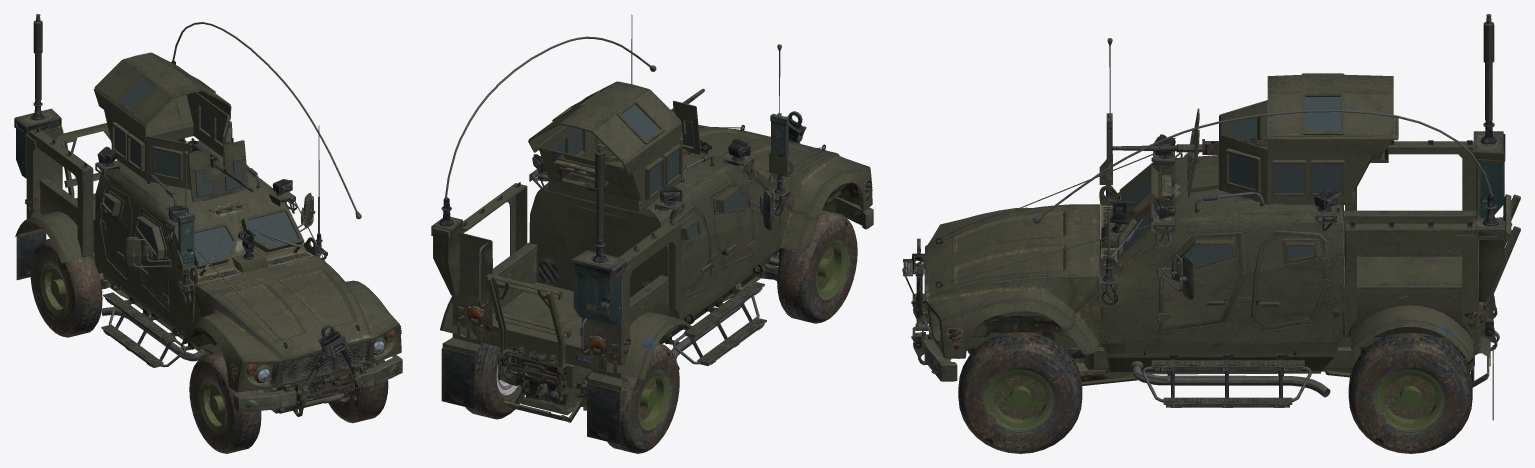
The model's file is matv_armored.glb.
3 renders of one model, left to right at view 1: azimuth 30°, elevation 25°; view 2: azimuth 150°, elevation 25°; view 3: azimuth 270°, elevation 25°, orthographic. The views are drawn at different scales.
Parts seen in each view (by area): view 1: Body, MG_Shield, Rim_FR, Rim_RR, Window_Turret, tire_RR, Window_Front, Passenger_Door, Rear_Door_R, tire_FR, tire_FL, Rim_FL; view 2: Body, MG_Shield, Rim_FR, Rim_RR, Passenger_Door, tire_FR, Rear_Door_R, Window_Turret, tire_RL, tire_RR, Rim_RL; view 3: Body, MG_Shield, Rim_FL, Rim_RL, Rear_Door_L, Driver_Door, Window_Turret, tire_FL, tire_RL, Window_Front.
Part boxes in pixels (x1,y1,x2,y2): Body: (14, 14, 402, 416); MG_Shield: (93, 52, 248, 202); Rim_FR: (189, 361, 234, 449); Rim_RR: (30, 245, 75, 333); Window_Turret: (114, 76, 242, 195); tire_RR: (32, 238, 102, 337); Window_Front: (194, 211, 298, 263); Passenger_Door: (134, 207, 171, 310); Rear_Door_R: (99, 185, 132, 278); tire_FR: (191, 352, 261, 453); tire_FL: (331, 359, 388, 423); Rim_FL: (328, 368, 358, 417); Body: (431, 14, 873, 444); MG_Shield: (528, 81, 700, 212); Rim_FR: (807, 220, 857, 319); Rim_RR: (629, 350, 679, 449); Passenger_Door: (709, 181, 755, 269); tire_FR: (777, 209, 855, 323); Rear_Door_R: (674, 205, 715, 300); Window_Turret: (555, 102, 693, 194); tire_RL: (465, 336, 520, 419); tire_RR: (607, 343, 677, 453); Rim_RL: (489, 346, 524, 413); Body: (902, 14, 1520, 420); MG_Shield: (1186, 73, 1398, 204); Rim_FL: (965, 350, 1075, 451); Rim_RL: (1355, 350, 1466, 451); Rear_Door_L: (1251, 230, 1330, 330); Driver_Door: (1157, 232, 1246, 331); Window_Turret: (1187, 97, 1341, 193); tire_FL: (958, 332, 1082, 453); tire_RL: (1348, 333, 1472, 453); Window_Front: (1123, 177, 1148, 251).
Size of the model in its own units: 2.59 by 3.87 by 6.03.
Materials: 5 (5 with a texture image).
